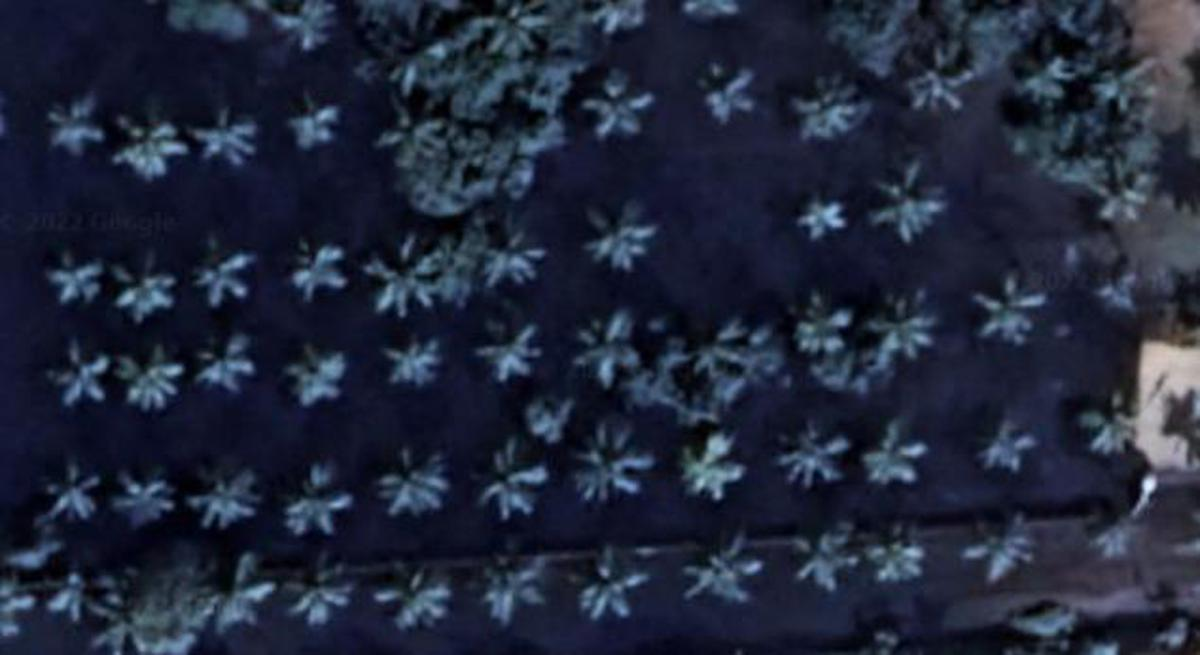coconut: (673, 524, 764, 615), (965, 265, 1052, 357), (560, 425, 651, 511), (675, 312, 774, 391), (181, 219, 264, 312), (365, 225, 452, 312), (863, 283, 948, 369), (1073, 147, 1158, 232), (874, 164, 963, 244), (766, 414, 847, 501), (664, 420, 749, 501), (573, 196, 656, 278), (469, 444, 560, 516), (181, 100, 259, 181), (467, 213, 548, 291), (781, 293, 864, 369), (189, 323, 266, 403), (783, 62, 864, 138), (906, 37, 984, 115), (367, 448, 456, 516), (285, 558, 369, 628), (853, 412, 921, 497), (569, 547, 651, 617), (1092, 41, 1162, 123), (104, 247, 181, 321), (272, 467, 353, 537), (278, 227, 353, 302), (571, 300, 645, 376), (582, 64, 658, 138), (372, 321, 452, 391), (107, 461, 183, 533), (117, 346, 193, 418), (378, 562, 458, 630), (688, 53, 762, 126), (482, 547, 554, 622), (109, 111, 183, 183), (777, 530, 857, 596), (1006, 34, 1078, 107), (202, 554, 272, 628), (473, 318, 545, 389), (961, 518, 1037, 584), (34, 458, 105, 528), (282, 83, 352, 153), (37, 90, 107, 159), (45, 342, 111, 414), (193, 467, 268, 528), (1073, 388, 1135, 461), (45, 236, 107, 308), (282, 333, 344, 405), (781, 193, 849, 257), (272, 0, 342, 62), (475, 0, 552, 56), (51, 556, 113, 624), (972, 418, 1037, 477), (864, 524, 927, 583)
